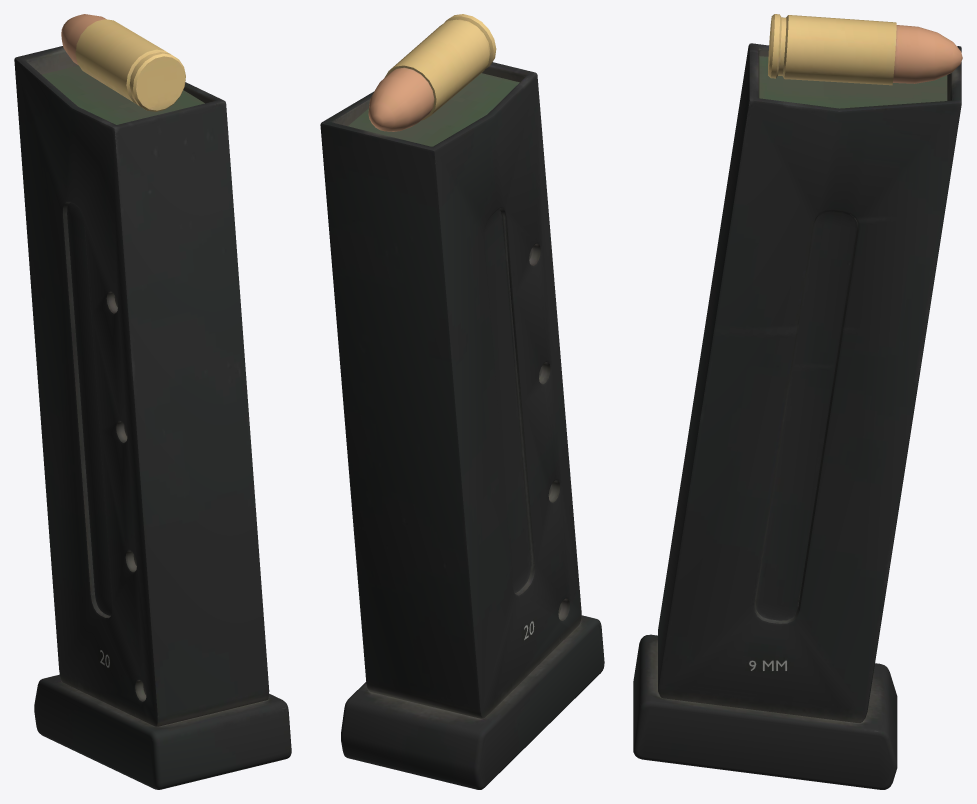
Rendered from carregador_smg_20.glb.
3 views of the same model, side by side, from view 1: azimuth 30°, elevation 25°; view 2: azimuth 150°, elevation 25°; view 3: azimuth 270°, elevation 25° (orthographic). The views are drawn at different scales.
Visible parts, largest first — view 1: carregador_smg_20_carregador; view 2: carregador_smg_20_carregador; view 3: carregador_smg_20_carregador.
Part boxes in pixels (x1=…): carregador_smg_20_carregador: x1=14, y1=14, x2=291, y2=789; carregador_smg_20_carregador: x1=320, y1=14, x2=604, y2=789; carregador_smg_20_carregador: x1=633, y1=14, x2=962, y2=789.
Size of the model in its own units: 0.0252 by 0.125 by 0.0505.
1 material, 1 textured.
